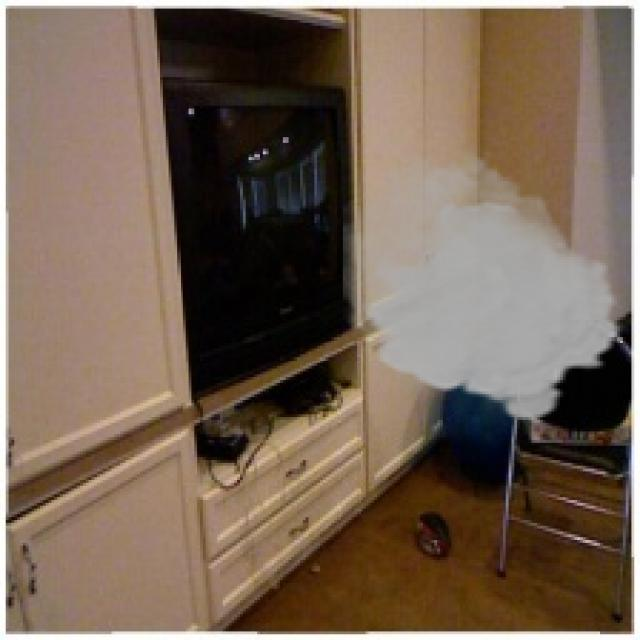smoke: (343, 143, 626, 423)
